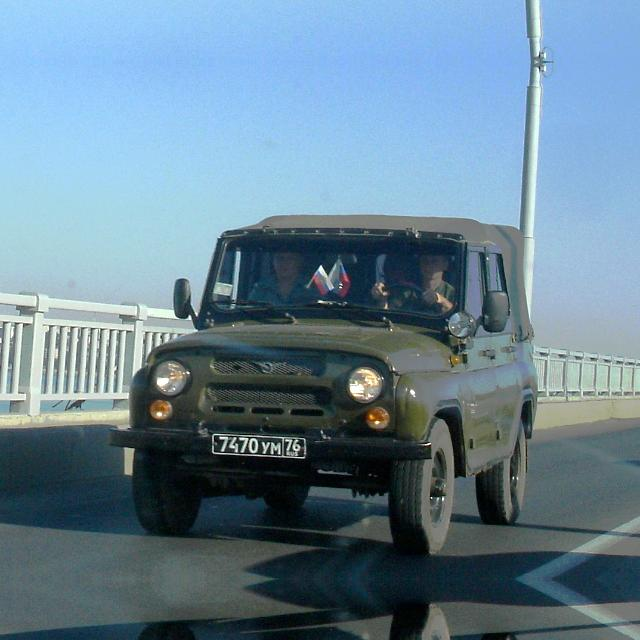military: (206, 430, 314, 462)
